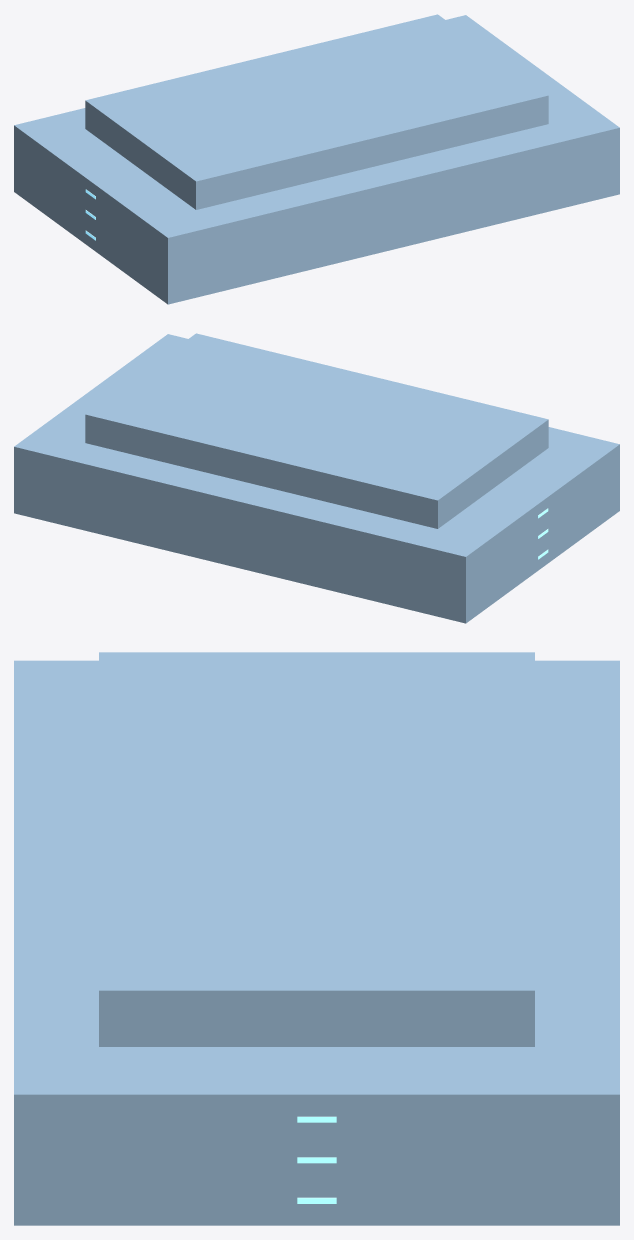
Rendered from eon_core_systems_house.glb.
The picture shows the model from 3 angles, top to bottom: view 1: azimuth 30°, elevation 25°; view 2: azimuth 150°, elevation 25°; view 3: azimuth 270°, elevation 25°; orthographic projection. The views are drawn at different scales.
Visible parts, largest first — view 1: eon_core_systems_house; view 2: eon_core_systems_house; view 3: eon_core_systems_house.
Part boxes in pixels (<box>): eon_core_systems_house: <box>14,14,619,304</box>; eon_core_systems_house: <box>14,333,619,623</box>; eon_core_systems_house: <box>14,652,619,1225</box>.
Size of the model in its own units: 67.23 by 13.5 by 39.6.
